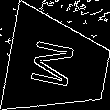M_E: (31, 38, 85, 92)
